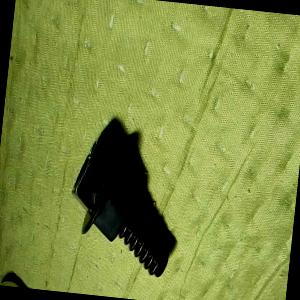parafuso: (62, 118, 182, 282)
